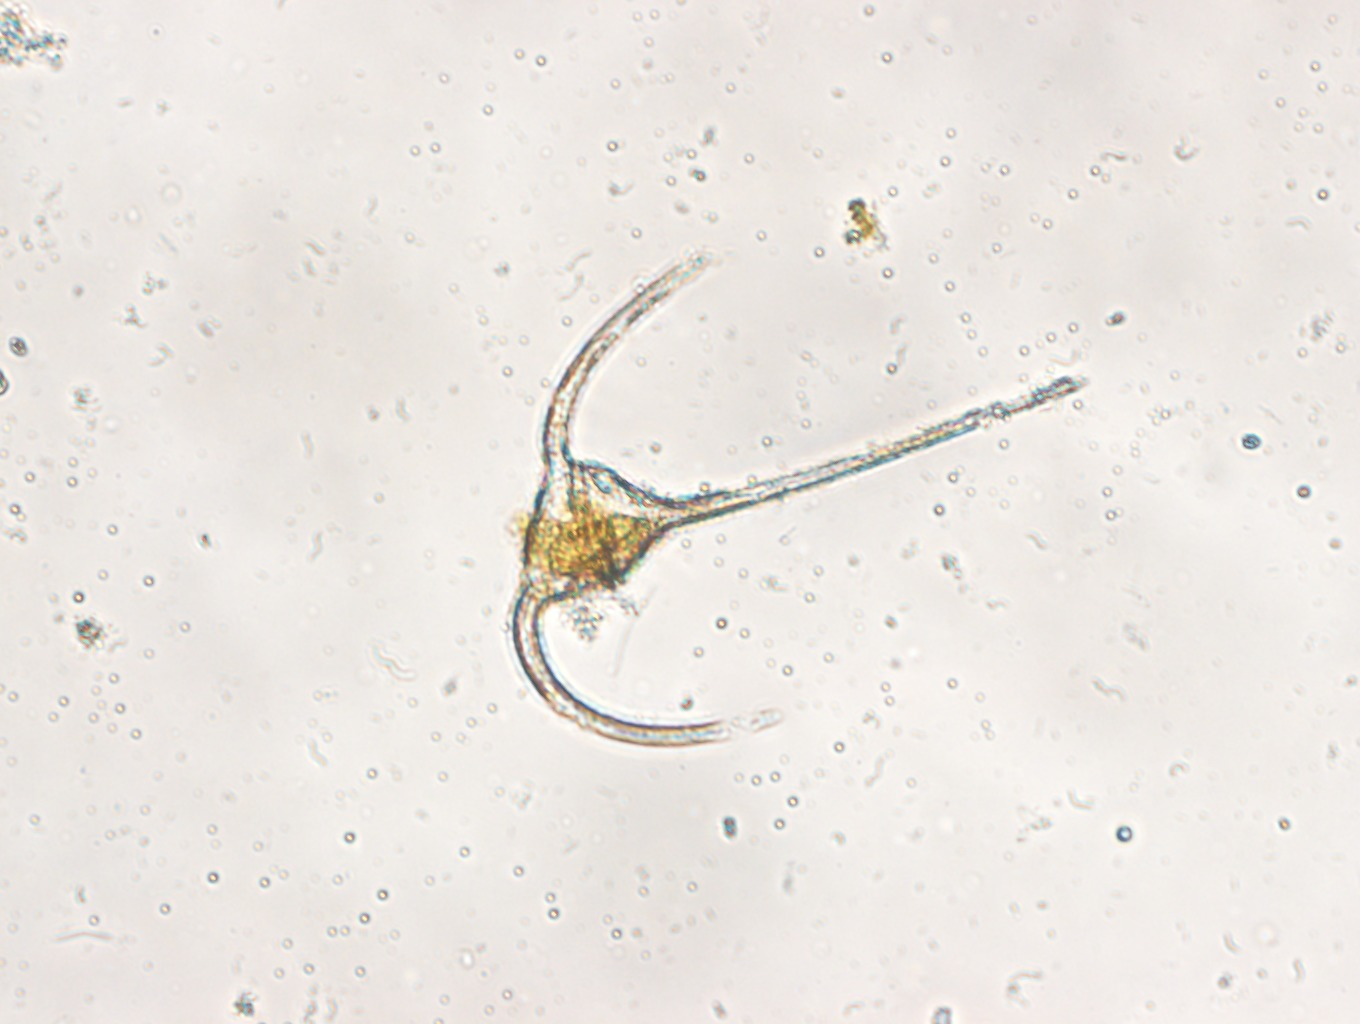ceratium trichoceros: (502, 229, 1093, 759)
